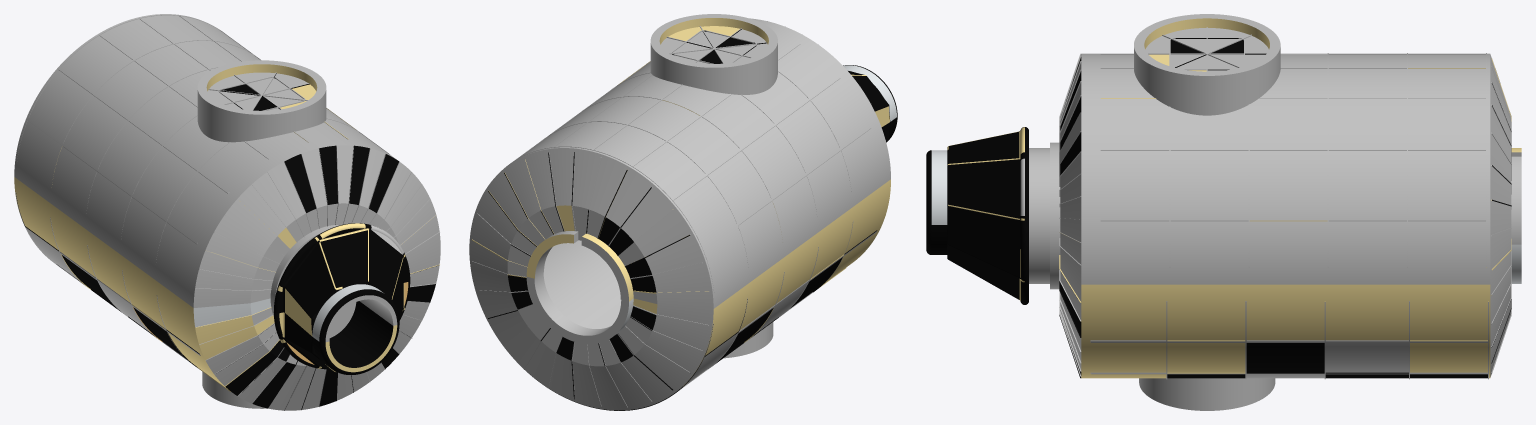
3 renders of one model, left to right at view 1: azimuth 30°, elevation 25°; view 2: azimuth 150°, elevation 25°; view 3: azimuth 270°, elevation 25°, orthographic. The views are drawn at different scales.
Visible parts, largest first — view 1: Subensamble N52 ISS-1/Subensamble N51 ISS-1/Subensamble N48  (×2); view 2: Subensamble N52 ISS-1/Subensamble N51 ISS-1/Subensamble N48  (×2); view 3: Subensamble N52 ISS-1/Subensamble N51 ISS-1/Subensamble N48  (×2).
Boxes of the visible parts, x1,y1,x2,y2 form: Subensamble N52 ISS-1/Subensamble N51 ISS-1/Subensamble N48  (×2): (14, 14, 440, 410); Subensamble N52 ISS-1/Subensamble N51 ISS-1/Subensamble N48  (×2): (469, 14, 897, 410); Subensamble N52 ISS-1/Subensamble N51 ISS-1/Subensamble N48  (×2): (926, 14, 1521, 410).
Bounding box in the file's own units: 310 × 355 × 568.
